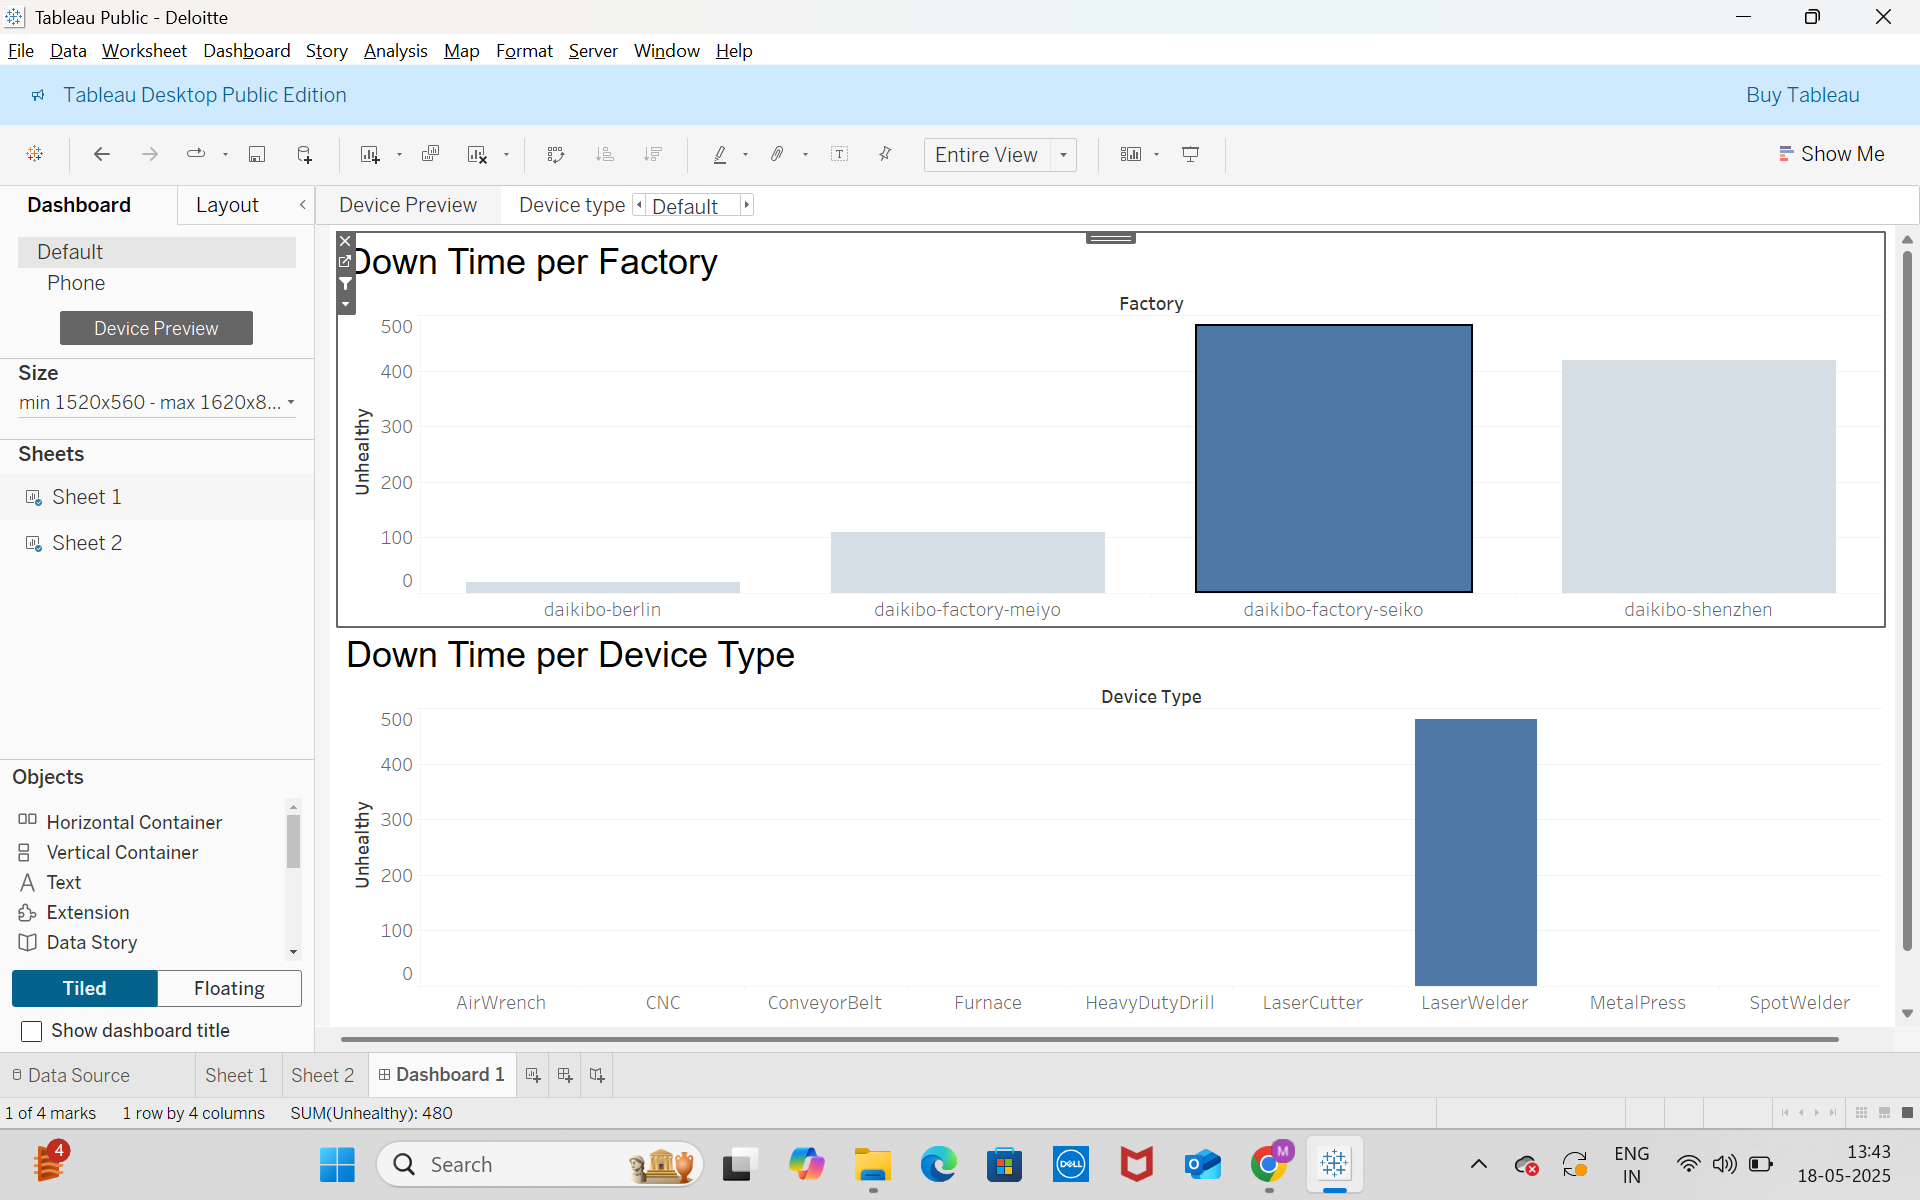

The dashboard page shown, as its layout file describes it:
{"tool":"tableau","page":{"name":"Dashboard 1","canvas":[1000,1000],"units":"permille","ordinal":0},"visuals":[{"type":"worksheet","title":"Sheet 1","mark":"Automatic","rows":["Calculation_1671961372821852160"],"cols":["factory"],"box":[5.1,10,989.8,490]},{"type":"worksheet","title":"Sheet 2","mark":"Automatic","rows":["Calculation_1671961372821852160"],"cols":["deviceType"],"box":[5.1,500,989.8,490]}]}

Visuals, with their boxes on the dashboard's canvas, which has no fixed pixel size, in thousandths of its width and height (x1, y1, x2, y2). These are canvas units, not pixel positions in the 1920x1200 screenshot, which may show the page scaled, cropped or inside an application window:
"Sheet 1" worksheet: <bbox>5, 10, 995, 500</bbox>
"Sheet 2" worksheet: <bbox>5, 500, 995, 990</bbox>
